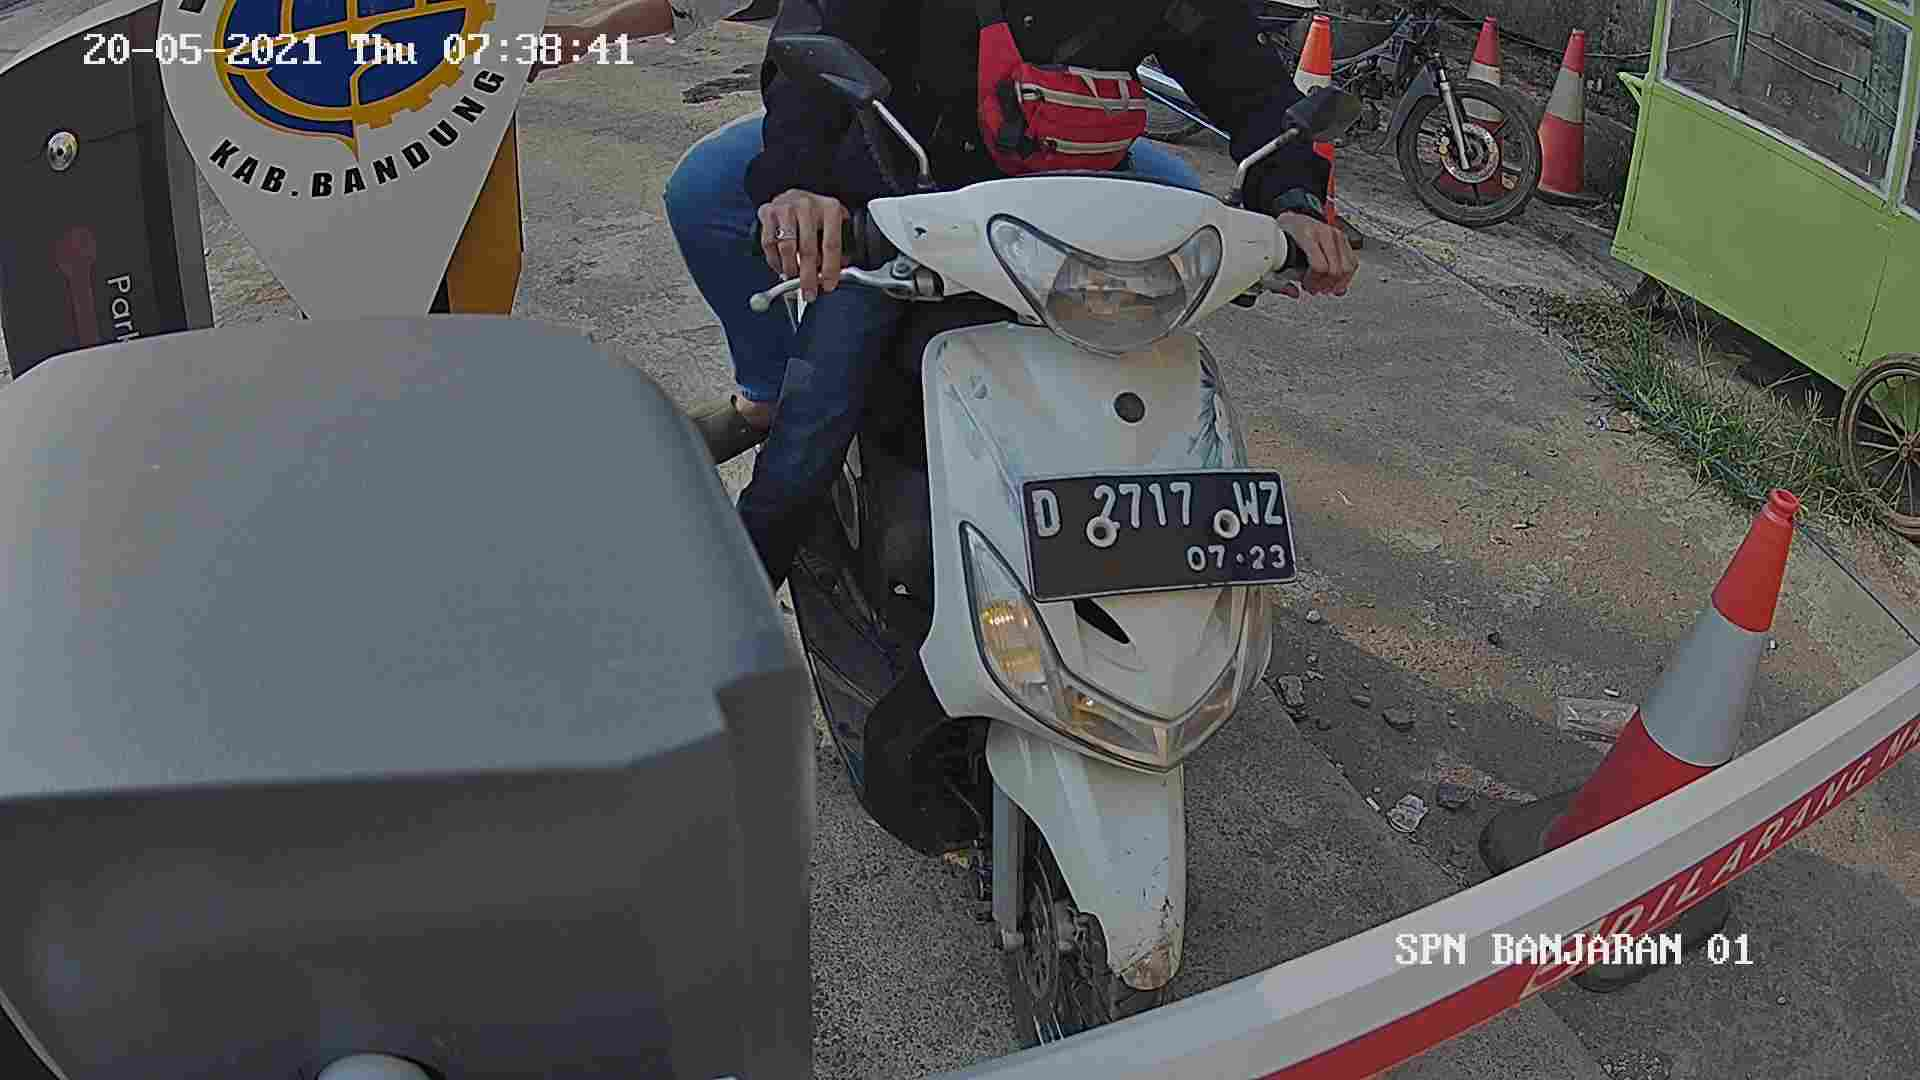motor: (760, 171, 1367, 1039)
